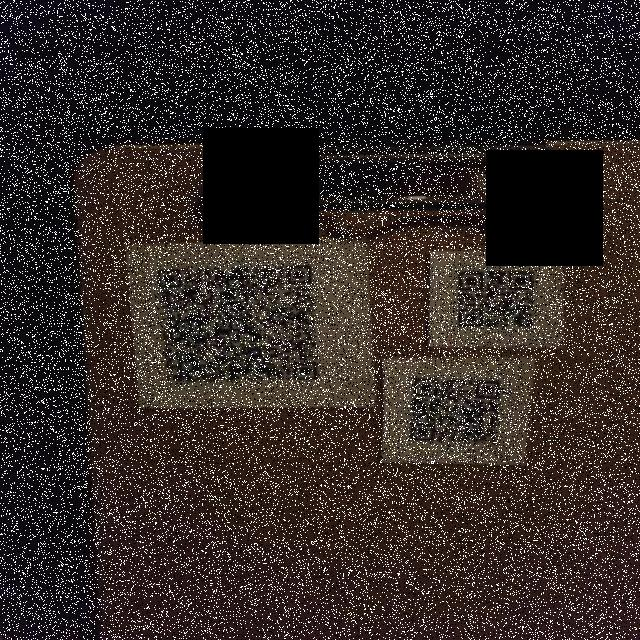QR_CODE: (142, 255, 336, 390), (396, 362, 516, 457), (444, 256, 550, 336)
